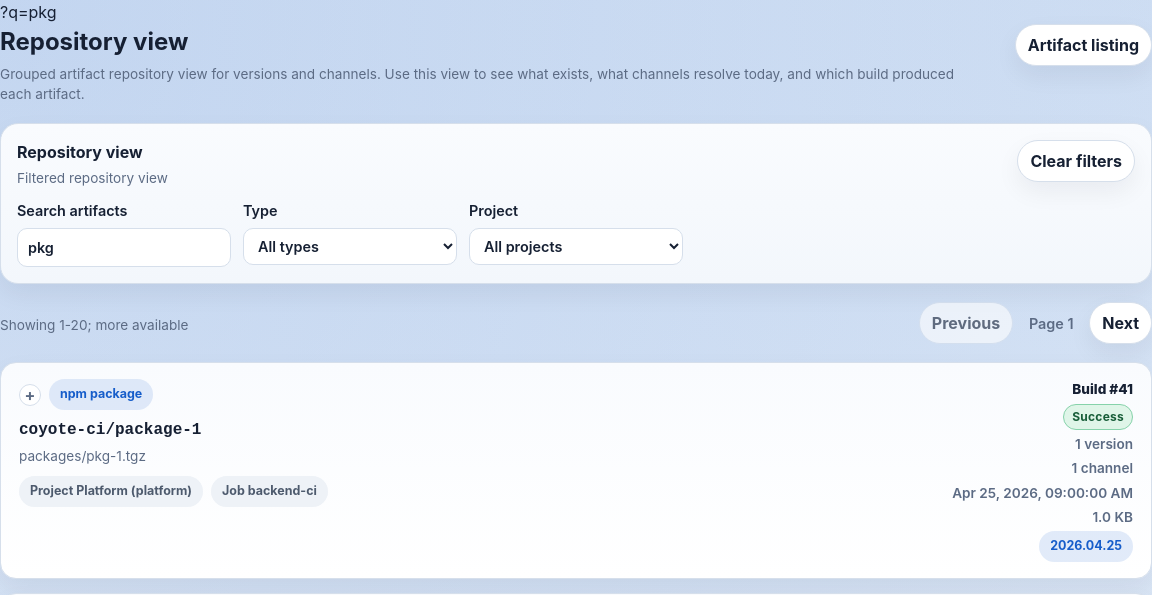
Test: ArtifactLogicalBrowserPage › navigates between logical artifact pages and clears filters
The image size is (1152, 595).
What coordinates should you click on to do the following:
click the button "Next"
I would click on:
 (1121, 323)
Its box is [1089,302,1151,344].
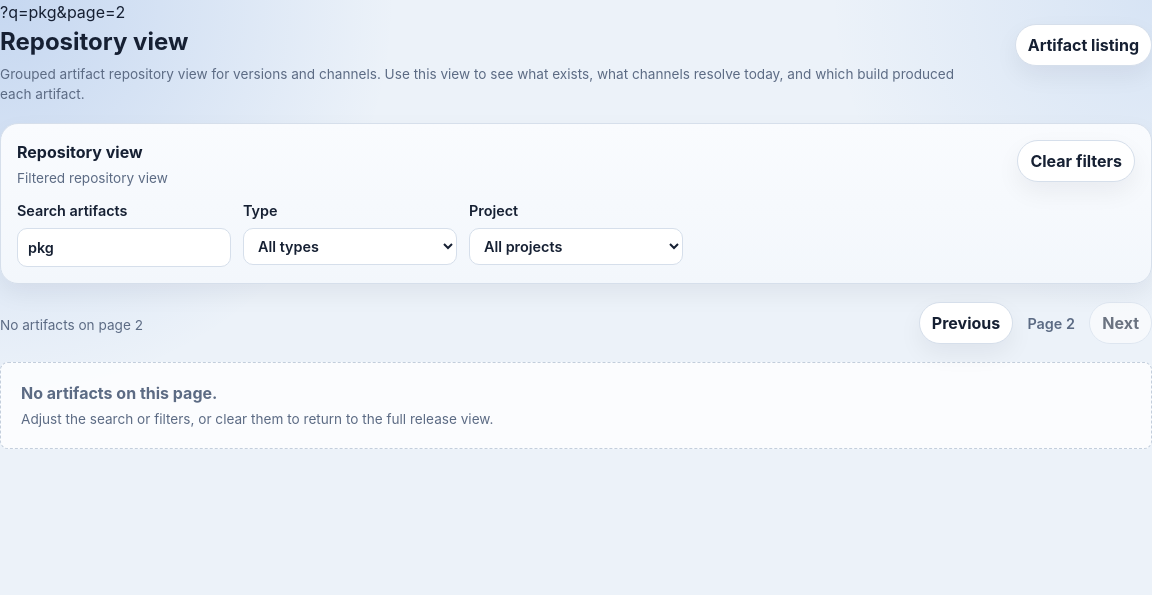
Result: the text with test id "location-search" reads "?q=pkg&page=2" at [0,2,125,22]
Result: the text "No artifacts on page 2" is shown at [0,315,143,336]
Result: the text "No artifacts on this page." is shown at [21,383,217,403]
What coordinates should you click on to do the following:
click the button "Previous"
I would click on:
 (966, 323)
Its box is [919,302,1013,344].
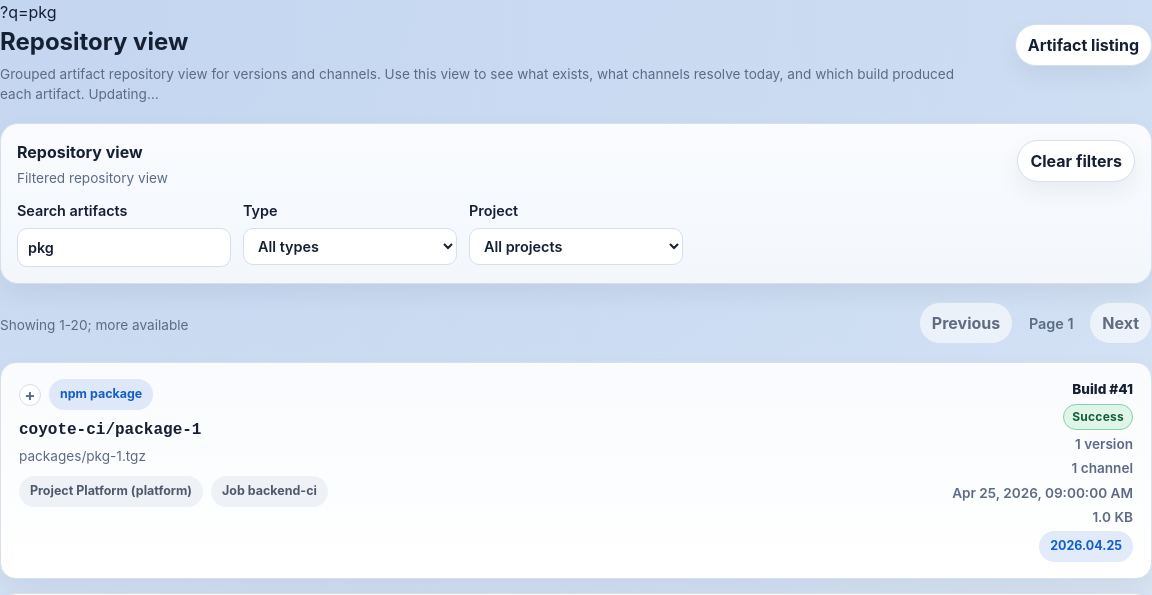
Expected: the text with test id "location-search" reads "?q=pkg", [0,2,57,22]
Result: the text "Showing 1-20; more available" is shown at [0,315,188,336]
What coordinates should you click on to do the following:
click the button "Clear filters"
I would click on:
 (1076, 161)
Its box is [1017,140,1135,182].
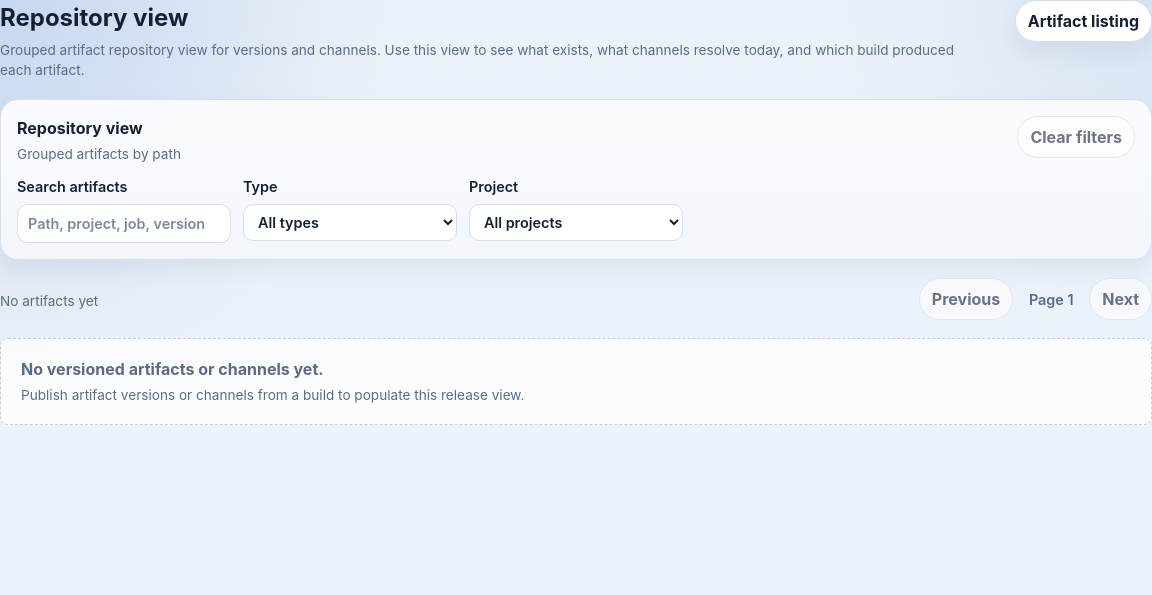
Result: the text "No versioned artifacts or channels yet." is shown at [21,359,324,379]
